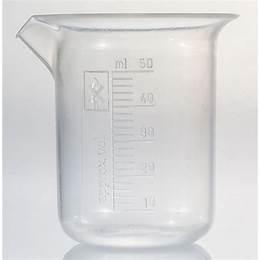Beaker: (18, 7, 236, 245)
